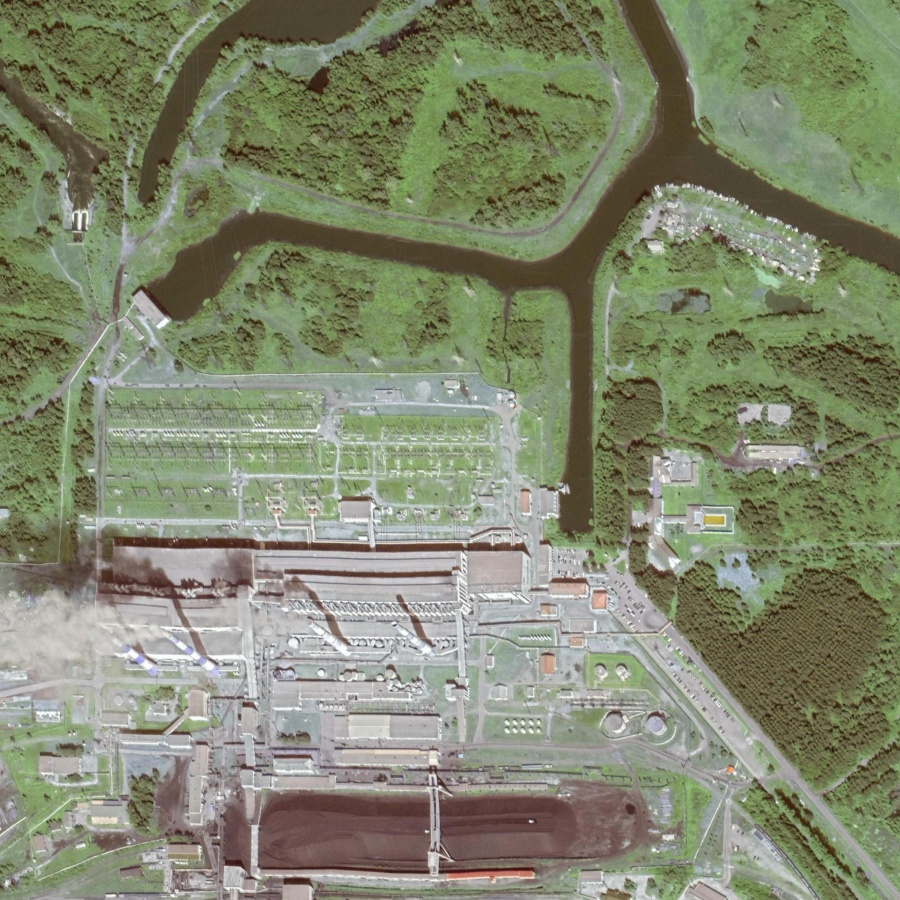PowerPlant: (71, 543, 670, 885)
